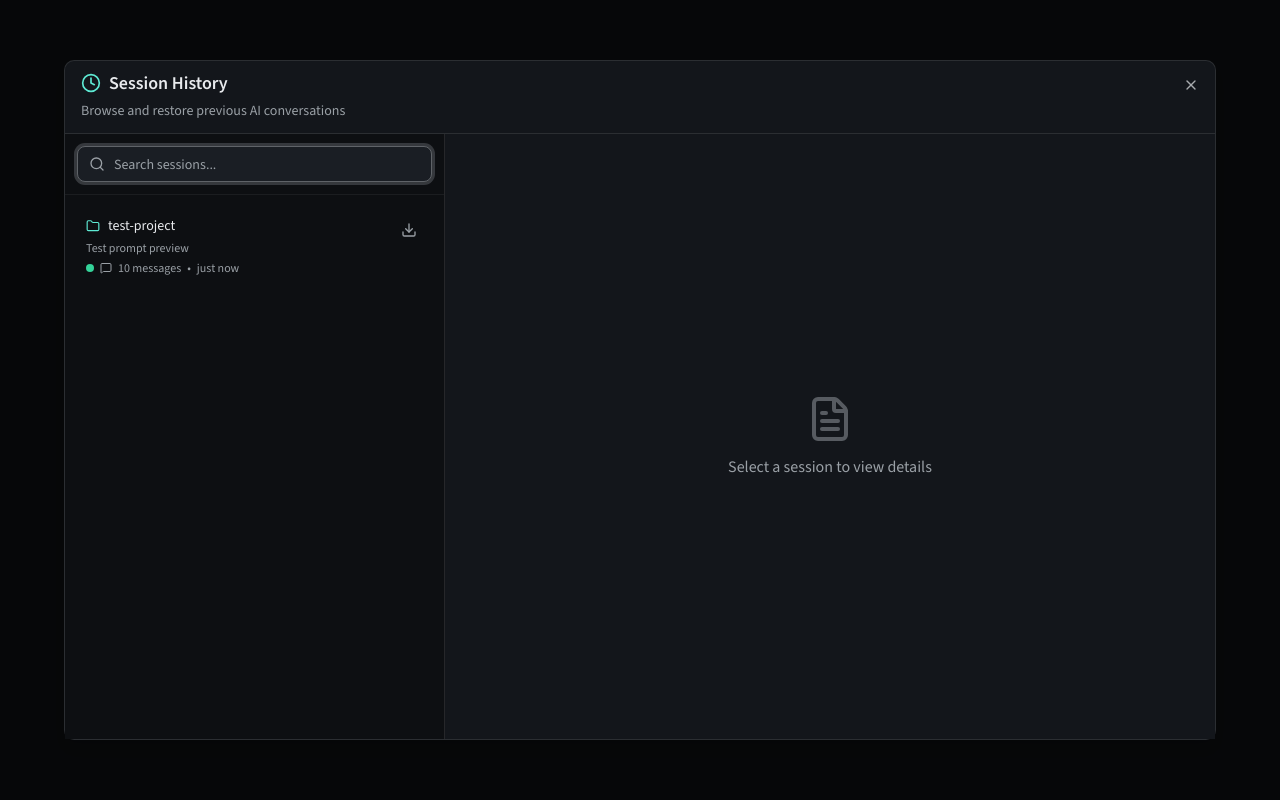
Test: SessionBrowser › message list virtualization › should render session detail when session is selected
This screenshot has width=1280, height=800.
Click on the session to load details
Click the text "test-project".
click(142, 226)  # box top-left (108, 216), bottom-right (175, 236)
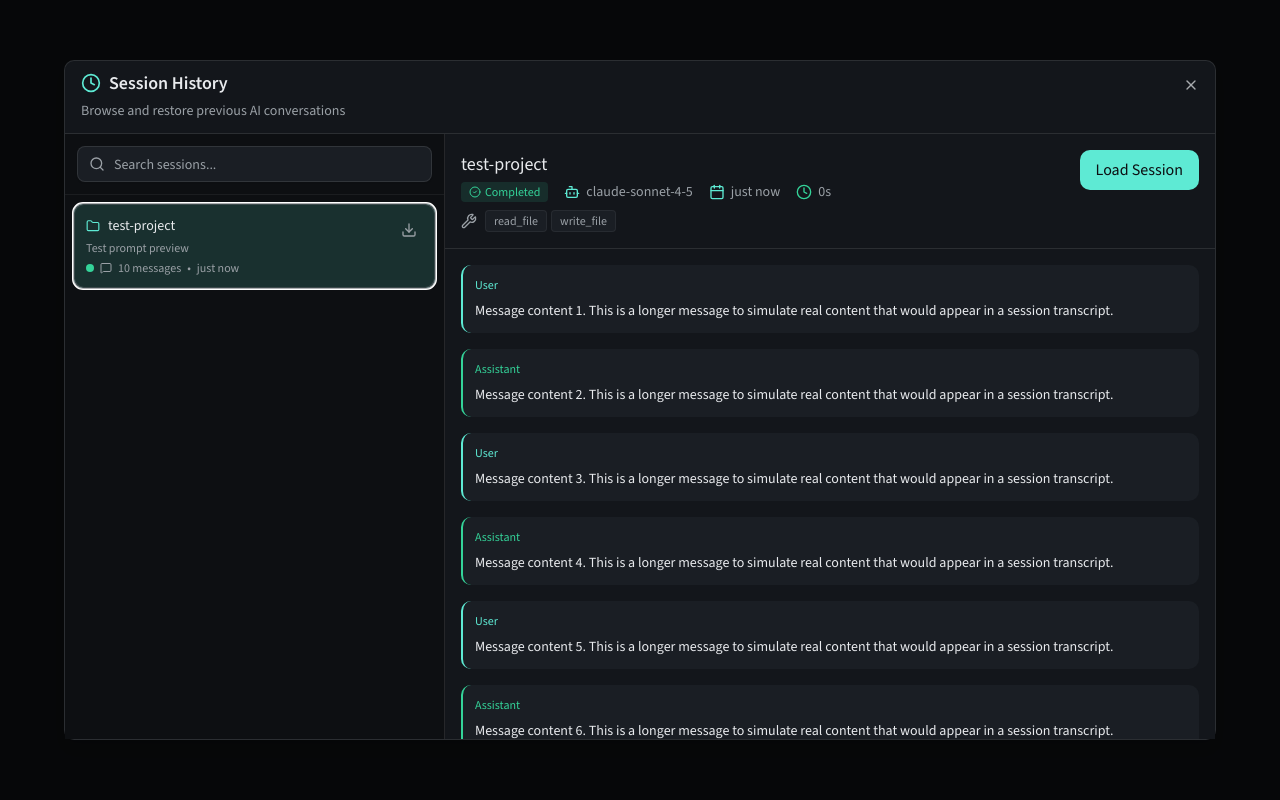
Expected: the button "Load Session" is shown, top-left (1080, 150), bottom-right (1199, 190)
